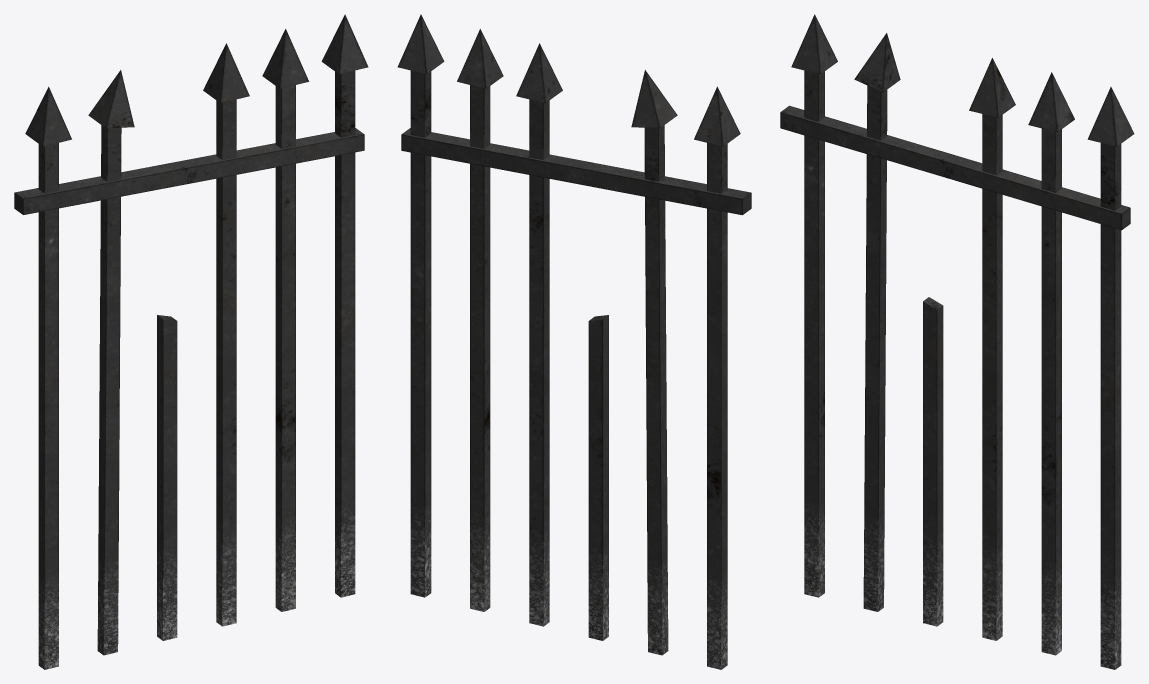
The model's file is Fence2.fbx.
3 views of the same model, side by side, from view 1: azimuth 30°, elevation 25°; view 2: azimuth 150°, elevation 25°; view 3: azimuth 330°, elevation 25° (orthographic).
Parts seen in each view (by area): view 1: Cube.031; view 2: Cube.031; view 3: Cube.031.
Boxes of the visible parts, bbox=[...] form: Cube.031: bbox=[14, 14, 368, 669]; Cube.031: bbox=[397, 14, 751, 669]; Cube.031: bbox=[780, 14, 1134, 669].
Bounding box in the file's own units: 576 × 934 × 51.18.
